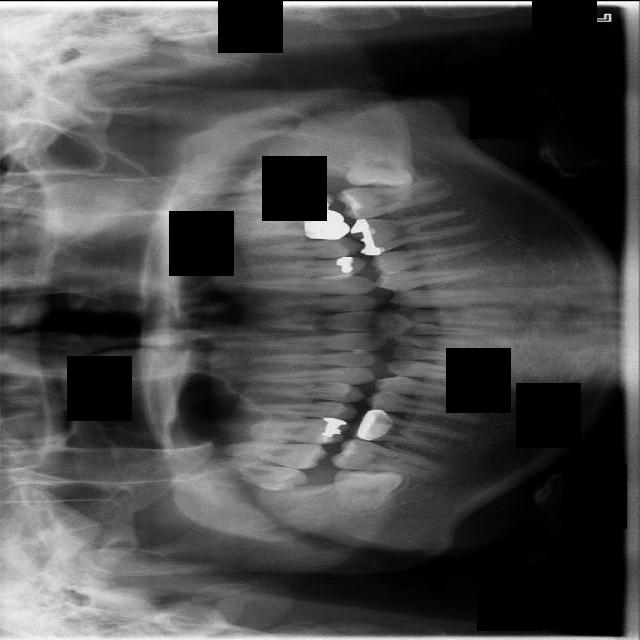3M ESPE Implant: (217, 456, 309, 496)
52: (346, 400, 397, 452), (347, 213, 386, 261), (303, 208, 350, 239), (320, 416, 348, 444), (308, 185, 331, 210), (339, 440, 358, 464), (335, 254, 355, 273), (353, 350, 364, 353), (352, 348, 364, 350)
73: (620, 9, 622, 21)
BioHorizons Implant: (216, 182, 335, 212)
BioLife Implant: (196, 155, 317, 199)
Biomet 3i Implant: (344, 140, 416, 190)
Blue Sky Bio Implant: (334, 177, 458, 221)
Caries: (222, 440, 328, 469)
Implant: (328, 436, 442, 477)
Keystone Dental Implant: (332, 468, 405, 511)
